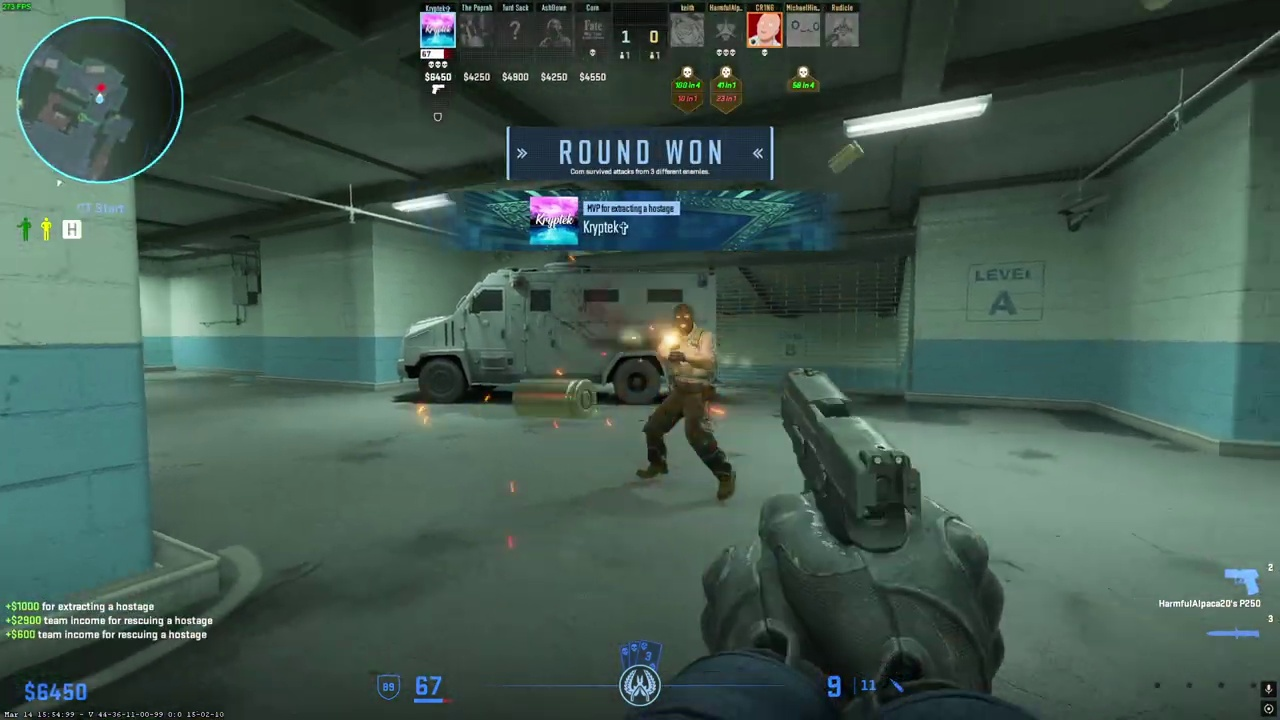Terrorist: (642, 302, 732, 501)
